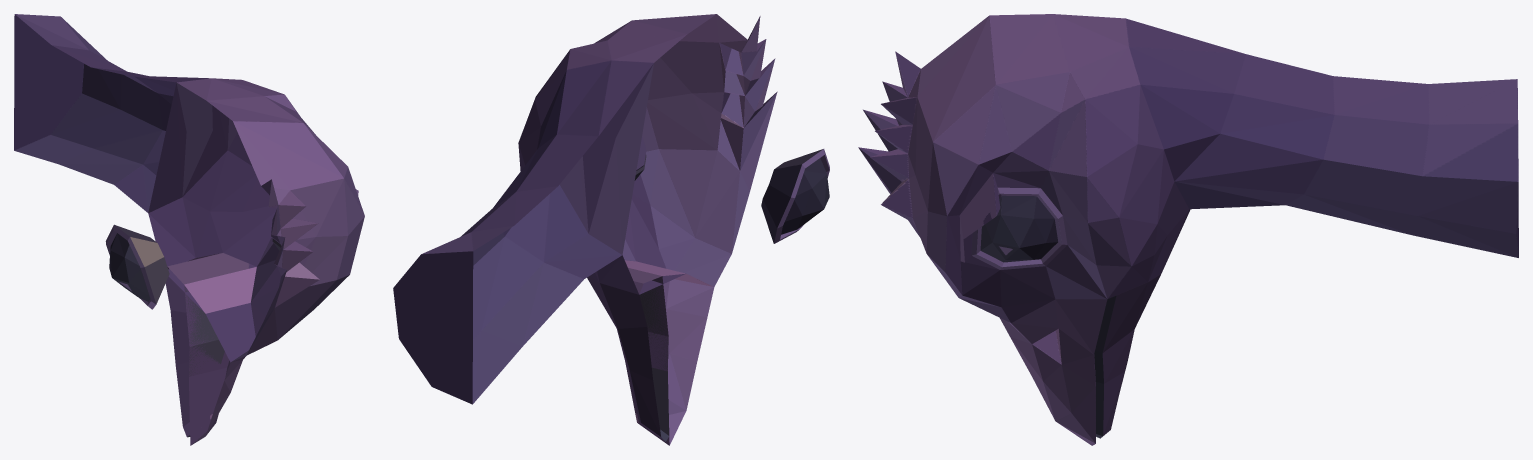
Rendered from ostrilo.glb.
3 renders of one model, left to right at view 1: azimuth 30°, elevation 25°; view 2: azimuth 150°, elevation 25°; view 3: azimuth 270°, elevation 25°, orthographic. The views are drawn at different scales.
Parts seen in each view (by area): view 1: Head, Neck, Top Beak, Lower Beak, Eye.R; view 2: Neck, Head, Top Beak, Lower Beak, Eye.R; view 3: Head, Neck, Top Beak, Eye.L, Lower Beak.
Part boxes in pixels (box(x1,y1,x2,y2)): Head: box(148, 78, 364, 362); Neck: box(14, 14, 237, 212); Top Beak: box(184, 267, 256, 445); Lower Beak: box(165, 253, 249, 437); Eye.R: box(105, 224, 169, 309); Neck: box(393, 60, 653, 404); Head: box(518, 14, 777, 294); Top Beak: box(617, 260, 714, 445); Lower Beak: box(587, 268, 669, 441); Eye.R: box(761, 149, 829, 243); Head: box(858, 14, 1190, 322); Neck: box(1125, 18, 1518, 257); Top Beak: box(1000, 299, 1107, 445); Eye.L: box(971, 187, 1067, 269); Lower Beak: box(1094, 274, 1160, 438).
Size of the model in its own units: 0.5206 by 0.7482 by 1.04.
1 material, 1 textured.
